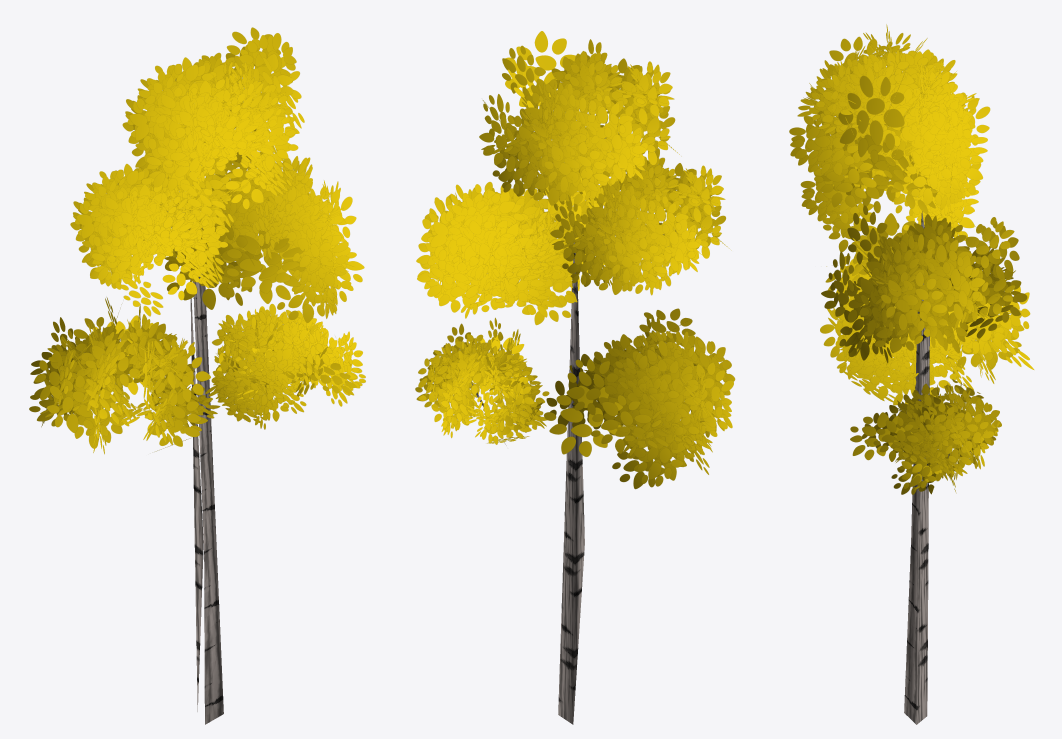
Rendered from Birch_02.glb.
3 views of the same model, side by side, from view 1: azimuth 30°, elevation 25°; view 2: azimuth 150°, elevation 25°; view 3: azimuth 270°, elevation 25° (orthographic). The views are drawn at different scales.
Visible parts, largest first — view 1: BirchTree_1; view 2: BirchTree_1; view 3: BirchTree_1.
Part boxes in pixels (x1,y1,x2,y2): BirchTree_1: (29, 27, 365, 724); BirchTree_1: (415, 31, 735, 724); BirchTree_1: (789, 24, 1034, 724).
Size of the model in its own units: 2.71 by 5.46 by 1.94.
Materials: 2 (2 with a texture image).
